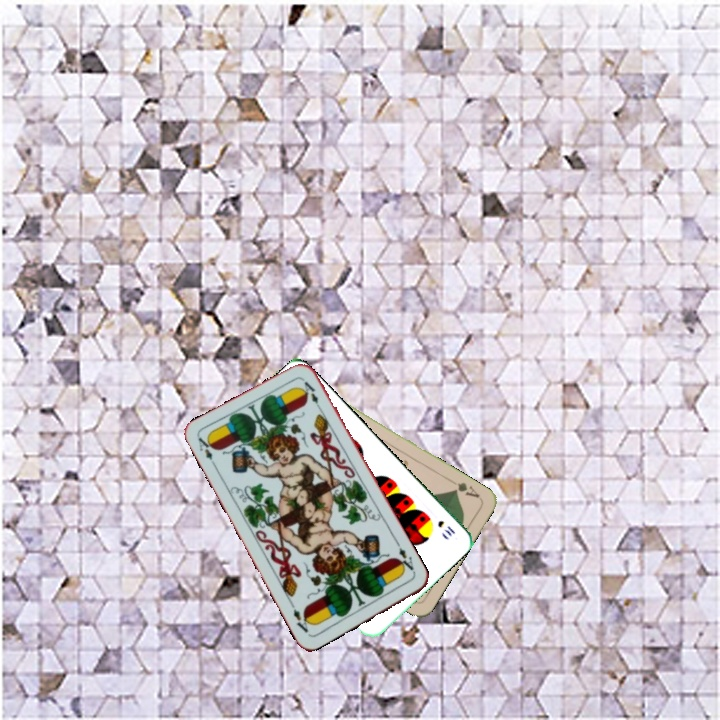EA: (194, 433, 220, 471), (392, 543, 418, 577)
GA: (446, 475, 482, 500)
S10: (434, 516, 458, 539)
